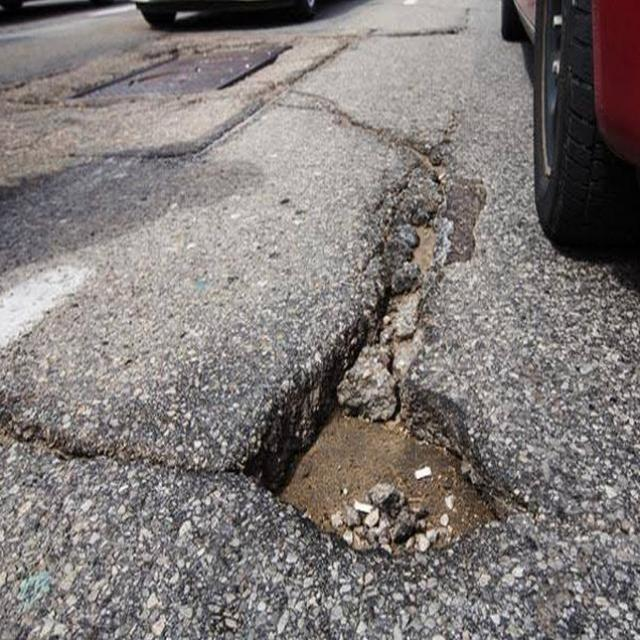Lubang: (260, 162, 508, 569)
